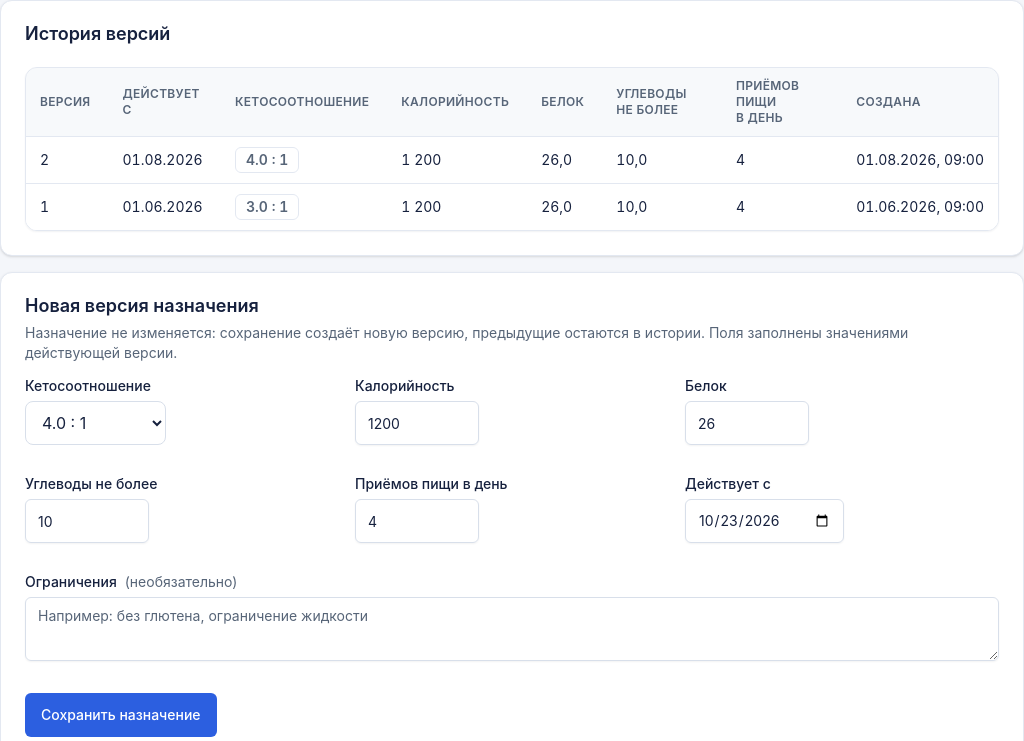
Test: форма назначения › не отправляет кетосоотношение вне шага 0,5 и показывает версию после сохранения
Select "3.7" in the dropdown labelled "Кетосоотношение": (96, 423) [25, 401, 166, 445]
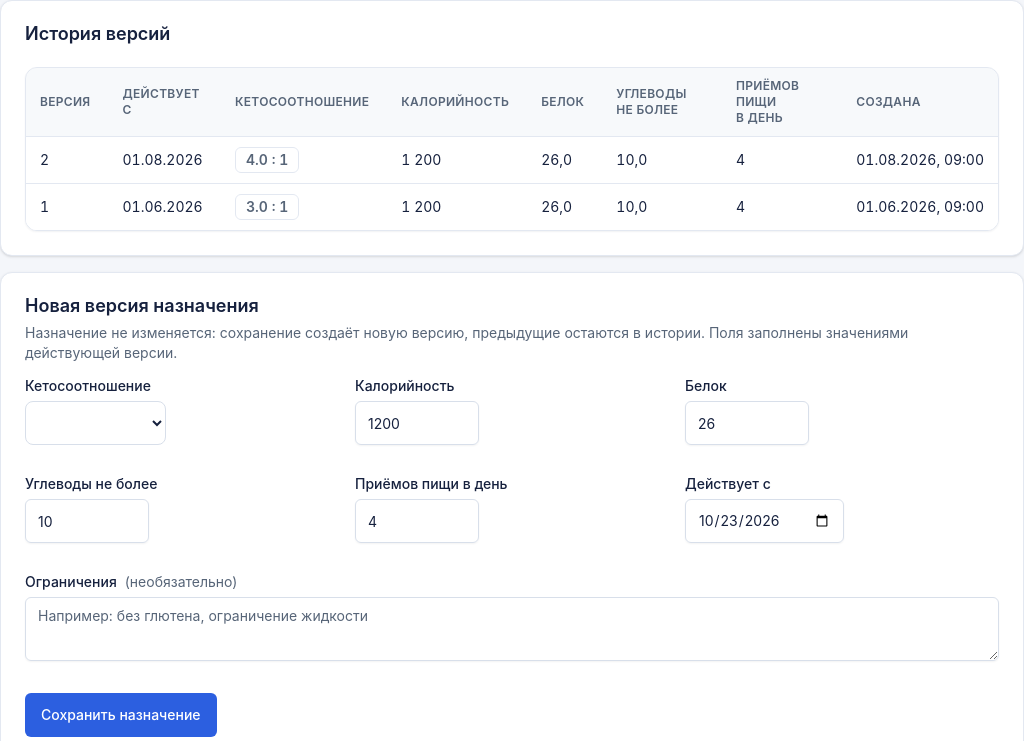
Click the button "Сохранить назначение": (121, 715) [25, 693, 217, 737]
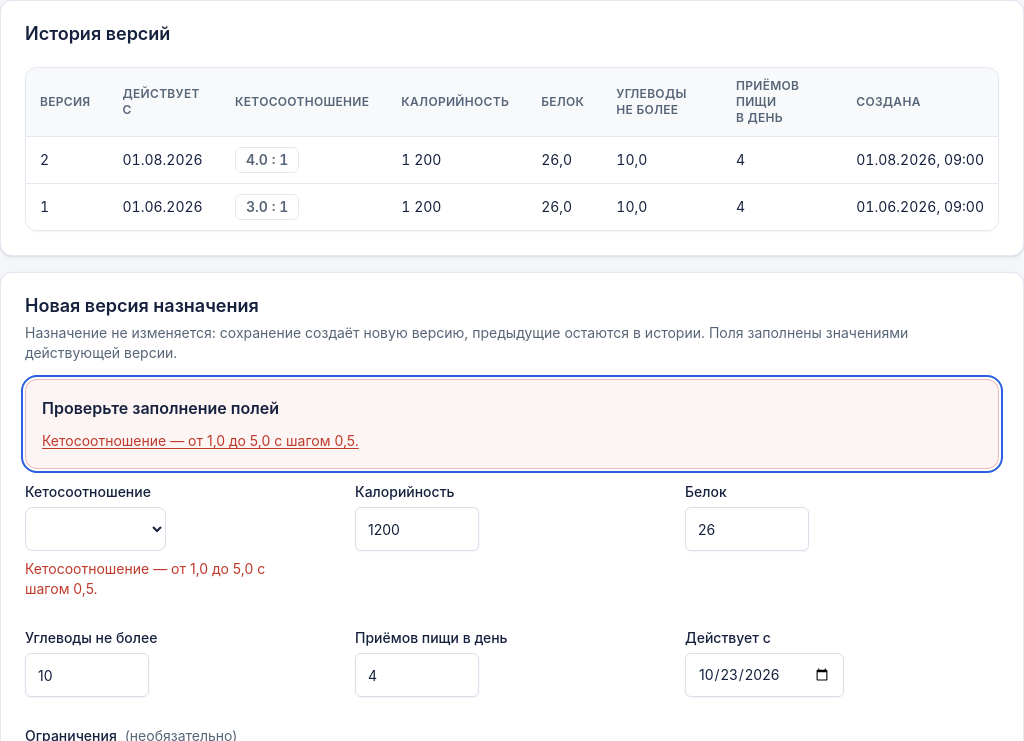
expect the number of links "Кетосоотношение — от 1,0 до 5,0 с шагом 0,5." is 2: met, box [42, 432, 359, 449]; [25, 560, 265, 597]
expect the link "Кетосоотношение — от 1,0 до 5,0 с шагом 0,5." is shown: met, box [42, 432, 359, 449]
Select "3.5 : 1" in the dropdown labelled "Кетосоотношение": (96, 529) [25, 507, 166, 551]
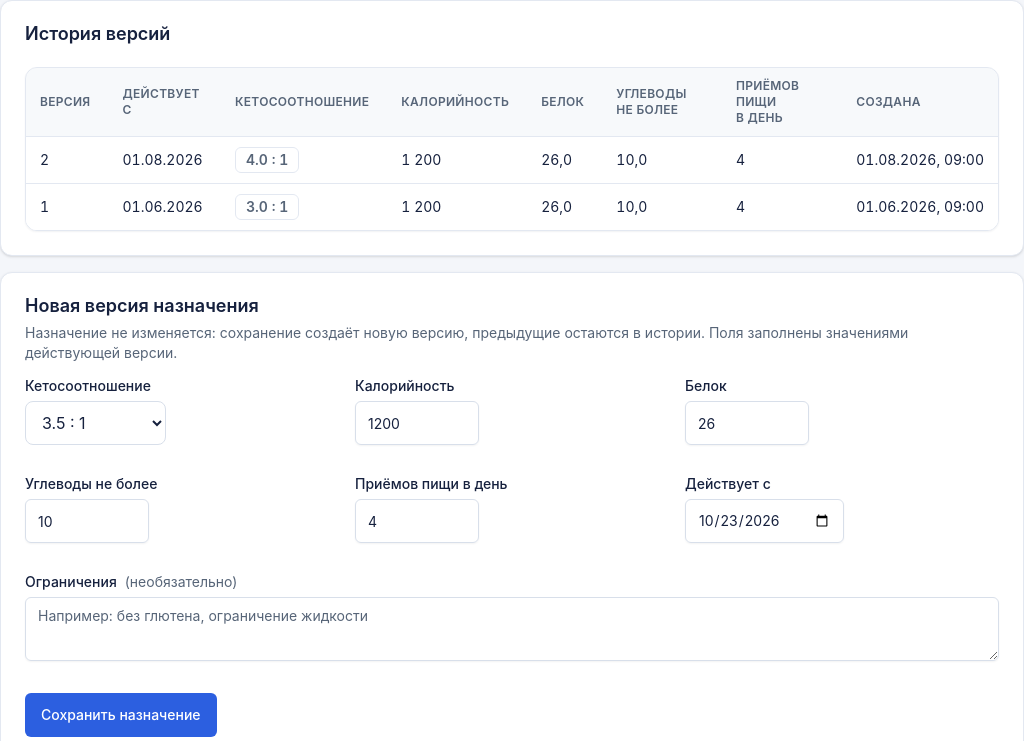
Click the button "Сохранить назначение": (121, 715) [25, 693, 217, 737]
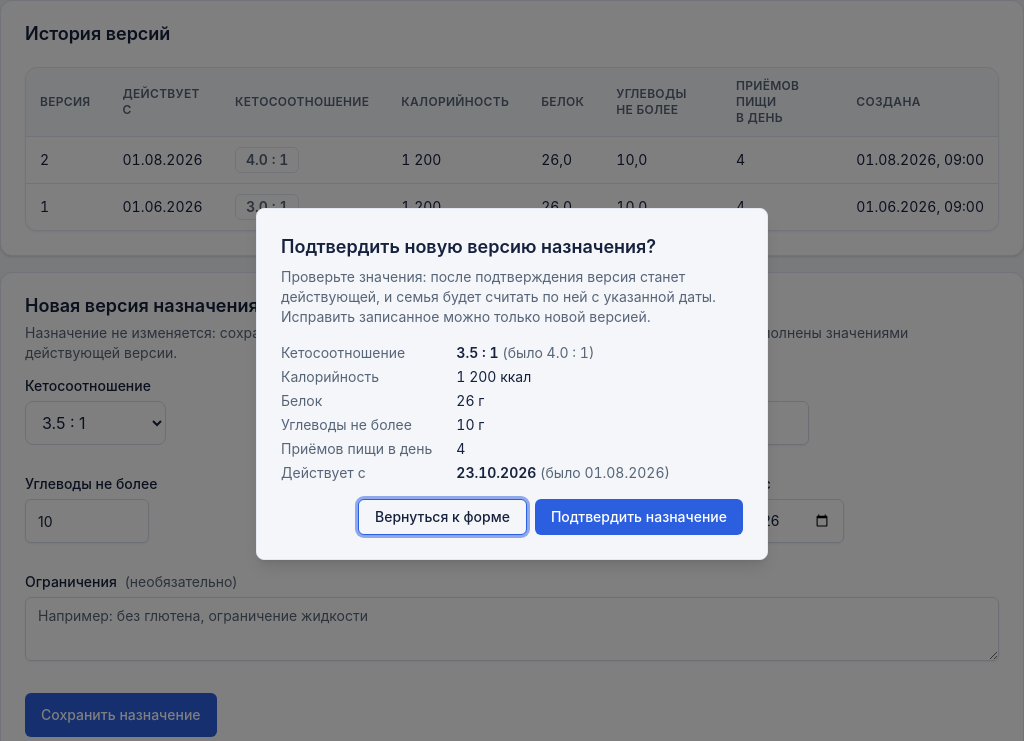
Click the button "Подтвердить назначение": (639, 517) [535, 499, 743, 535]
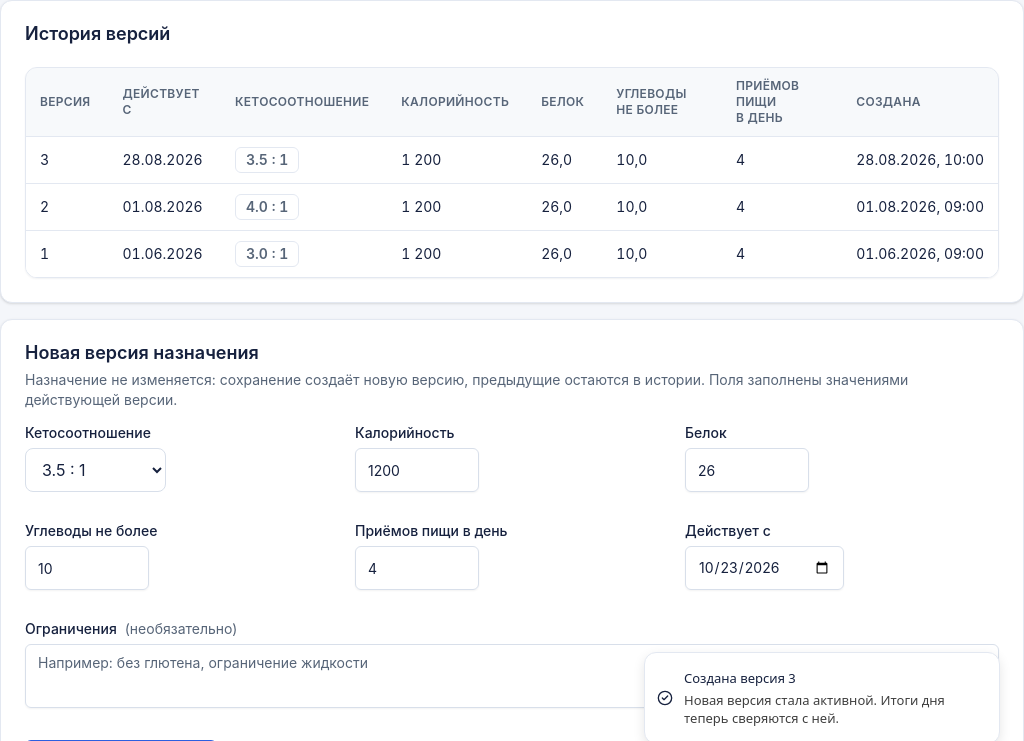
expect the text "Создана версия 3" is shown: met, box [684, 669, 796, 687]
